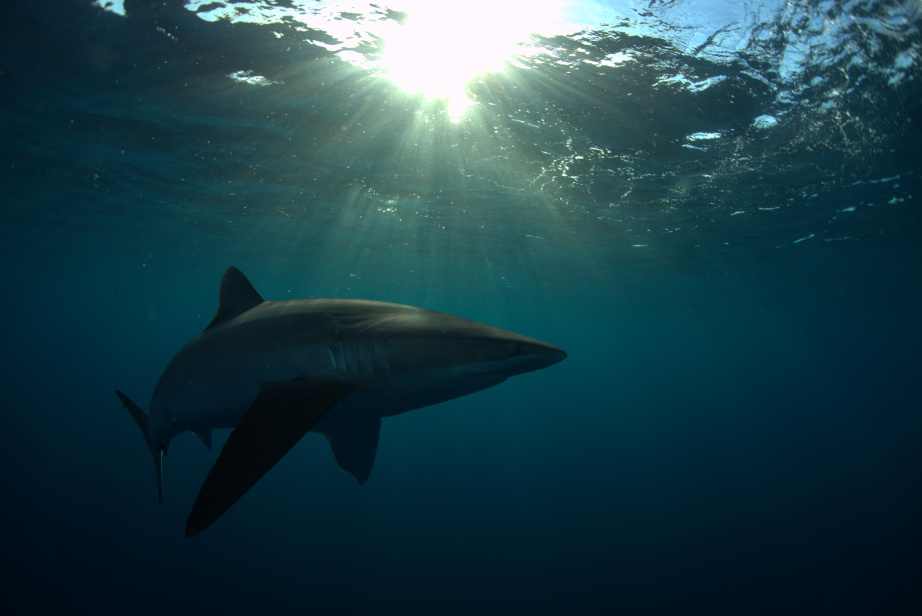Sedoso: (96, 256, 617, 550)
